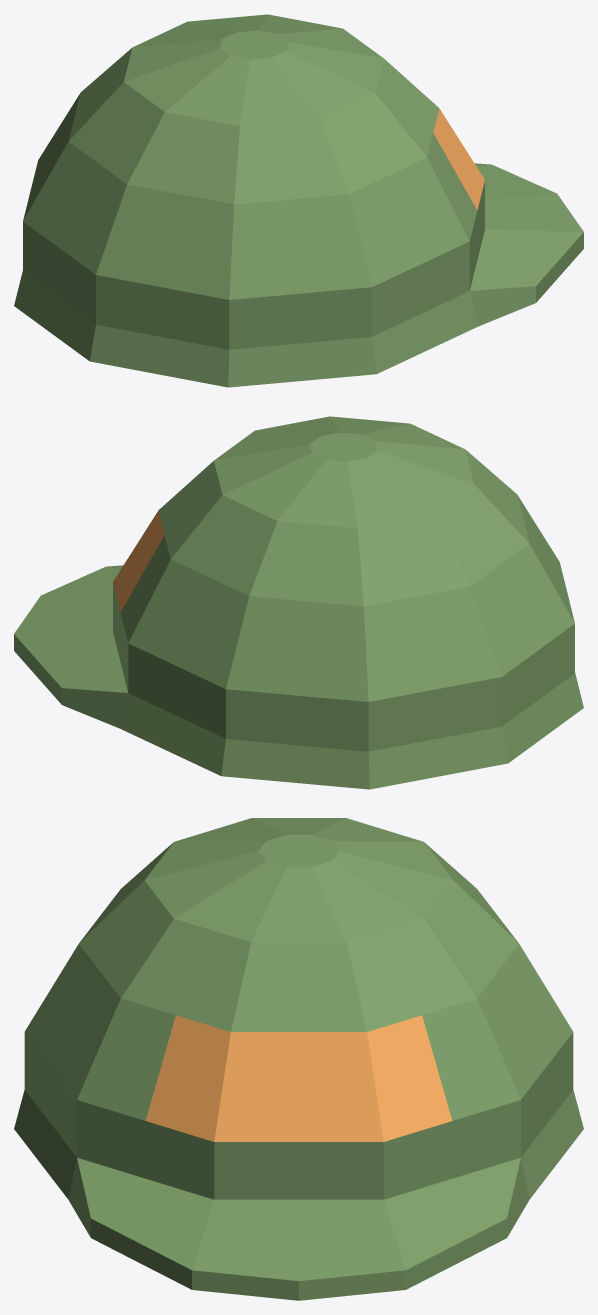
Rendered from cap.glb.
3 renders of one model, top to bottom at view 1: azimuth 30°, elevation 25°; view 2: azimuth 150°, elevation 25°; view 3: azimuth 270°, elevation 25°, orthographic. The views are drawn at different scales.
Parts seen in each view (by area): view 1: cap; view 2: cap; view 3: cap.
Boxes of the visible parts, x1,y1,x2,y2 form: cap: [14, 14, 583, 387]; cap: [14, 416, 583, 789]; cap: [14, 818, 583, 1300].
Bounding box in the file's own units: 1.72 × 0.7772 × 1.44.
Materials: 1 (1 with a texture image).
